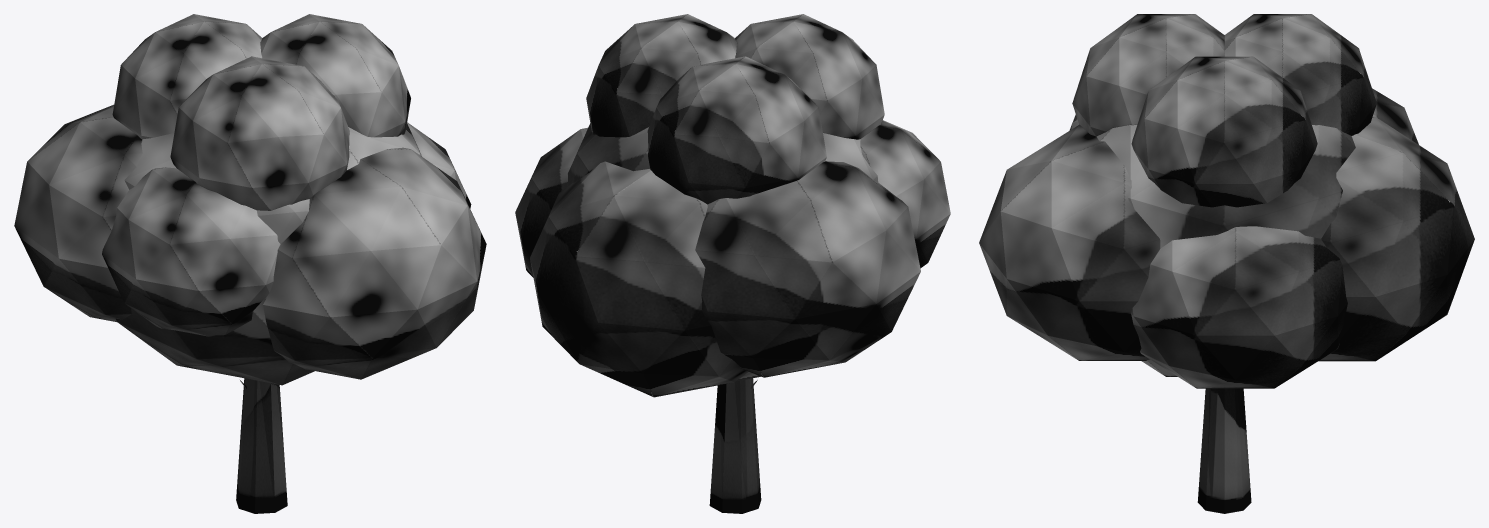
Rendered from tree_oak_large.glb.
The picture shows the model from 3 angles, left to right: view 1: azimuth 30°, elevation 25°; view 2: azimuth 150°, elevation 25°; view 3: azimuth 270°, elevation 25°; orthographic projection.
Parts seen in each view (by area): view 1: tree_oak_large; view 2: tree_oak_large; view 3: tree_oak_large.
Part boxes in pixels (x1=…): tree_oak_large: x1=14, y1=14, x2=486, y2=513; tree_oak_large: x1=515, y1=14, x2=950, y2=513; tree_oak_large: x1=979, y1=14, x2=1474, y2=513.
Size of the model in its own units: 5.47 by 6.27 by 6.
1 material, 1 textured.
